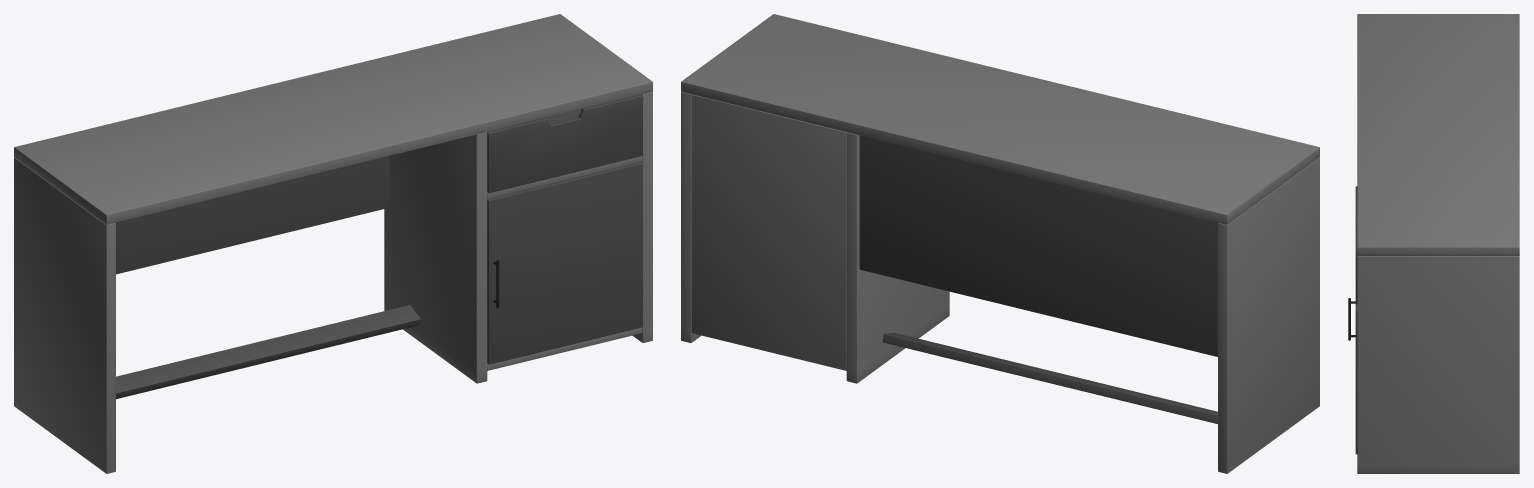
The model's file is office_table_2.glb.
The picture shows the model from 3 angles, left to right: view 1: azimuth 30°, elevation 25°; view 2: azimuth 150°, elevation 25°; view 3: azimuth 270°, elevation 25°; orthographic projection. The views are drawn at different scales.
Parts seen in each view (by area): view 1: Plane.1150_0, Plane.111_2, Plane.106_3, Plane.112_1; view 2: Plane.1150_0, Plane.106_3; view 3: Plane.1150_0, Plane.111_2, Plane.112_1.
Part boxes in pixels (<box>): Plane.1150_0: <box>14,14,652,473</box>; Plane.111_2: <box>487,162,642,364</box>; Plane.106_3: <box>115,156,420,399</box>; Plane.112_1: <box>487,94,642,193</box>; Plane.1150_0: <box>681,14,1319,473</box>; Plane.106_3: <box>859,135,1218,423</box>; Plane.1150_0: <box>1357,14,1519,473</box>; Plane.111_2: <box>1348,298,1357,454</box>; Plane.112_1: <box>1355,186,1357,304</box>.
Bounding box in the file's own units: 1.9 × 0.861 × 0.5899.
3 materials, 3 textured.
